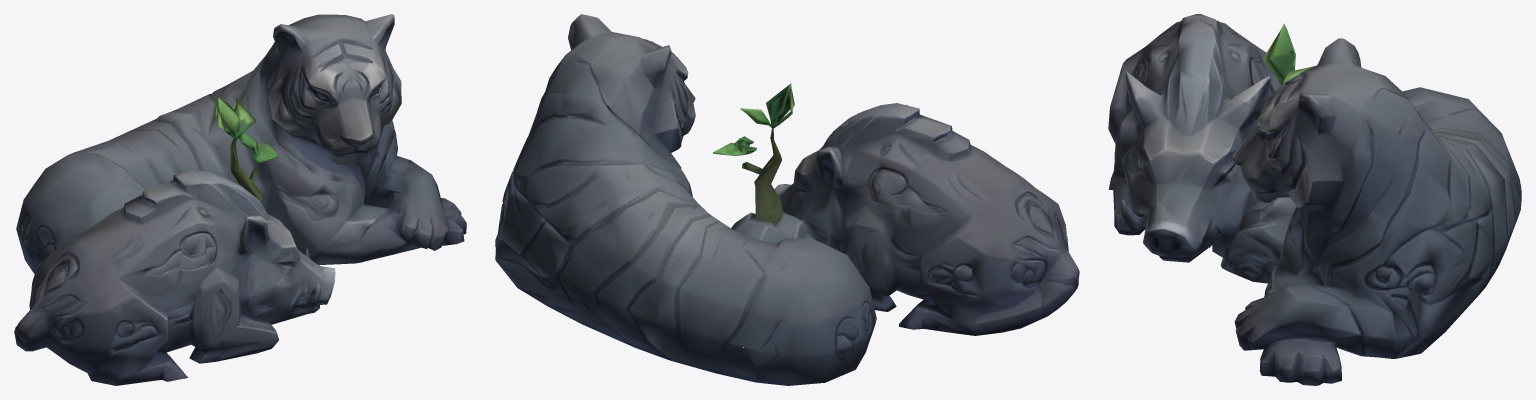
File: he_yin_hai.glb
3 views of the same model, side by side, from view 1: azimuth 30°, elevation 25°; view 2: azimuth 150°, elevation 25°; view 3: azimuth 270°, elevation 25° (orthographic). The views are drawn at different scales.
Visible parts, largest first — view 1: tripo_node_c66bc87f-50e8-4406-9570-af61d28640d4; view 2: tripo_node_c66bc87f-50e8-4406-9570-af61d28640d4; view 3: tripo_node_c66bc87f-50e8-4406-9570-af61d28640d4.
Part boxes in pixels (left/top/right/bottom): tripo_node_c66bc87f-50e8-4406-9570-af61d28640d4: left=14, top=14, right=466, bottom=385; tripo_node_c66bc87f-50e8-4406-9570-af61d28640d4: left=495, top=14, right=1079, bottom=385; tripo_node_c66bc87f-50e8-4406-9570-af61d28640d4: left=1108, top=14, right=1521, bottom=385.
Size of the model in its own units: 0.9995 by 0.452 by 0.6504.
Materials: 1 (1 with a texture image).
